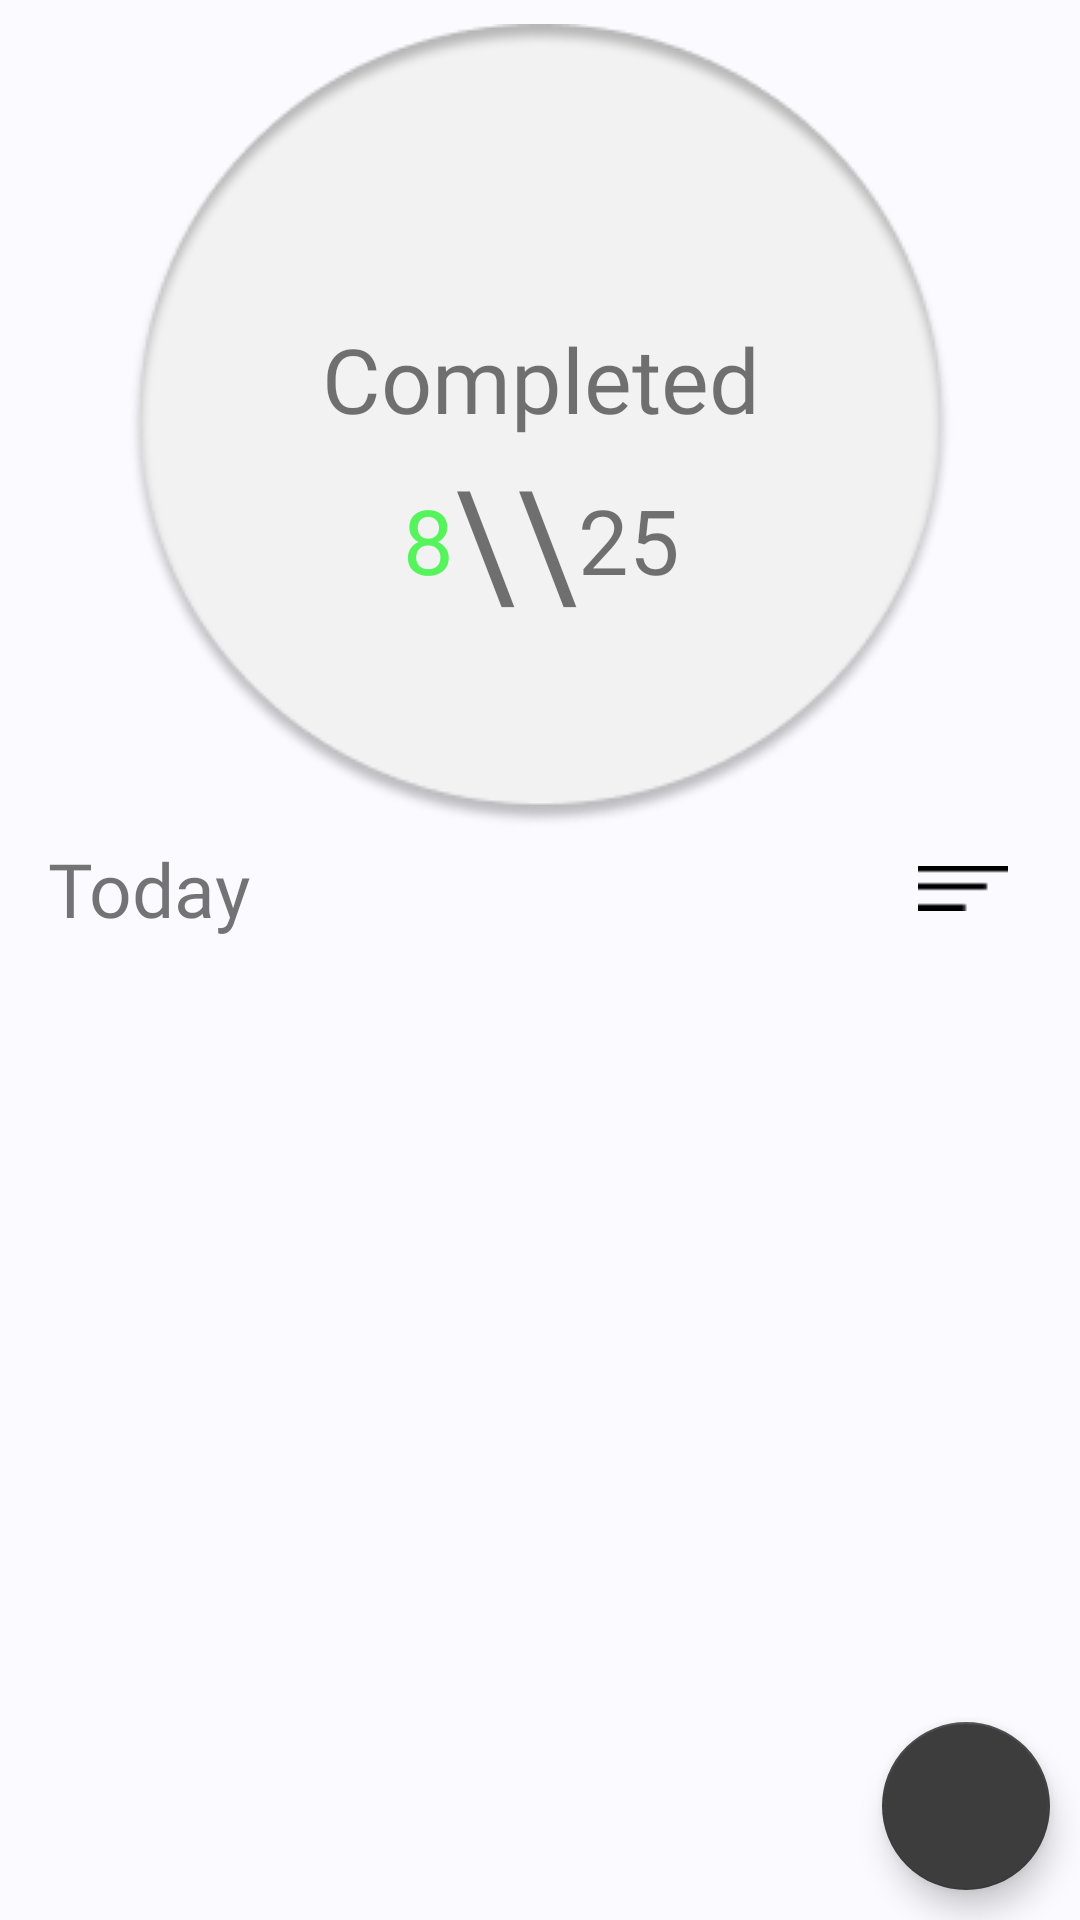

Icon click points for this 1080w x 1920h phone screenshot, format [x,y]:
filter: [963,888]
